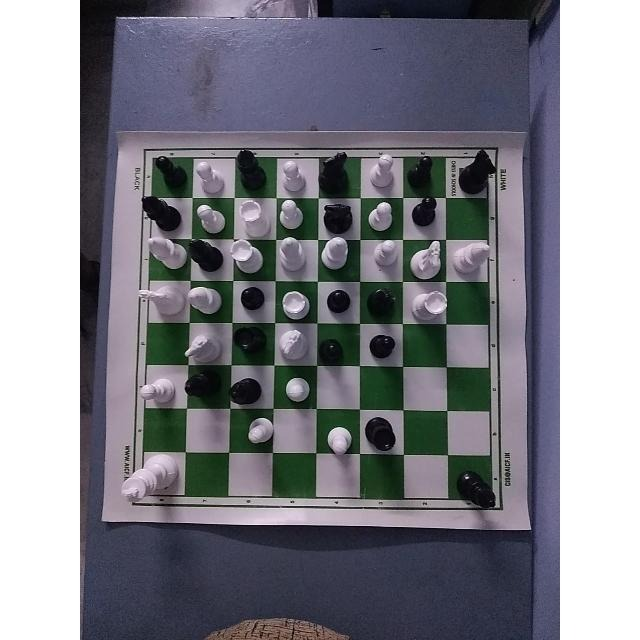black-bishop: (452, 467, 504, 515), (231, 144, 271, 194), (137, 190, 181, 232), (182, 366, 226, 405), (227, 366, 266, 407), (360, 282, 399, 319), (187, 235, 221, 274)
black-knight: (456, 145, 500, 198), (317, 148, 355, 195), (320, 199, 358, 235)
black-pawn: (151, 150, 192, 193), (406, 193, 443, 226), (408, 153, 439, 191), (324, 286, 356, 320), (369, 331, 402, 362), (318, 334, 349, 365), (239, 285, 270, 313)
black-rook: (228, 318, 272, 362), (360, 412, 406, 452)
white-bishop: (142, 235, 184, 277), (450, 242, 493, 279), (275, 233, 310, 278), (183, 283, 223, 317), (322, 235, 354, 272)
white-king: (116, 450, 177, 509)
white-knight: (136, 280, 188, 321), (184, 323, 228, 367), (274, 327, 318, 365), (407, 238, 446, 280)
white-pawn: (187, 160, 235, 197), (277, 158, 321, 198), (277, 194, 311, 238), (194, 197, 232, 236), (370, 153, 407, 193), (365, 201, 405, 235), (280, 371, 315, 408), (318, 427, 358, 459), (364, 238, 402, 269), (248, 409, 276, 446)
white-rook: (277, 281, 321, 323), (234, 195, 274, 236), (228, 237, 265, 277), (409, 288, 451, 323)
